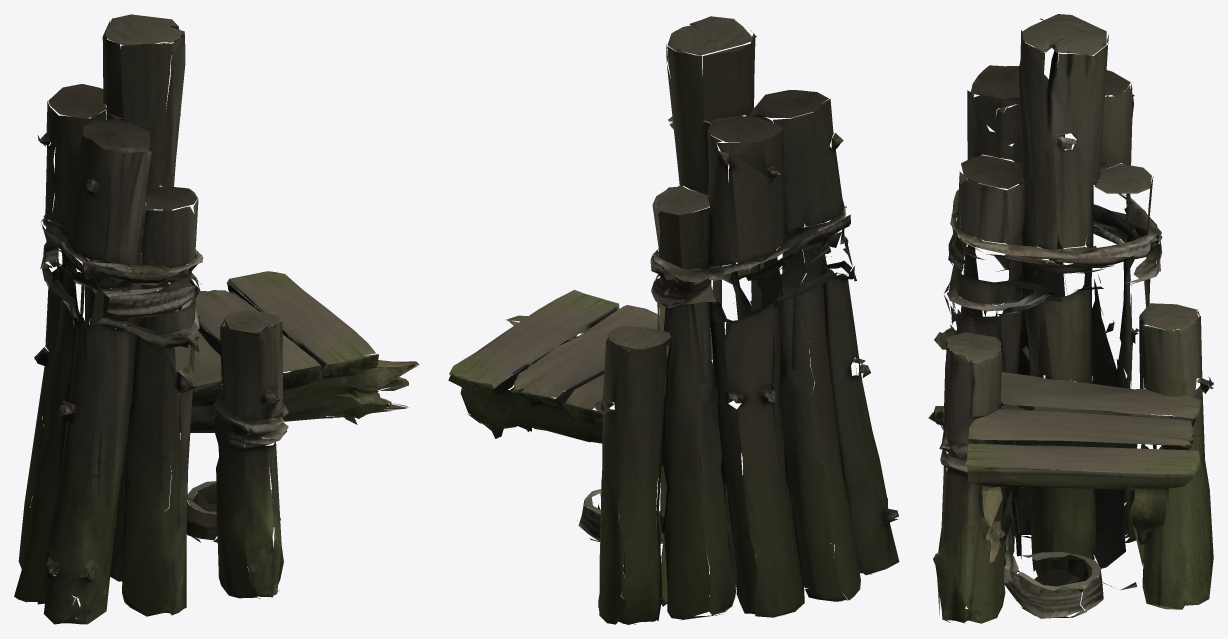
The model's file is dockPilings.glb.
3 renders of one model, left to right at view 1: azimuth 30°, elevation 25°; view 2: azimuth 150°, elevation 25°; view 3: azimuth 270°, elevation 25°, orthographic.
Visible parts, largest first — view 1: Prop_dockPilings; view 2: Prop_dockPilings; view 3: Prop_dockPilings.
Part boxes in pixels (x1,y1,x2,y2): Prop_dockPilings: (14, 14, 419, 624); Prop_dockPilings: (448, 16, 899, 624); Prop_dockPilings: (928, 14, 1213, 623).
Size of the model in its own units: 1.47 by 1.99 by 0.9279.
Materials: 1 (1 with a texture image).
